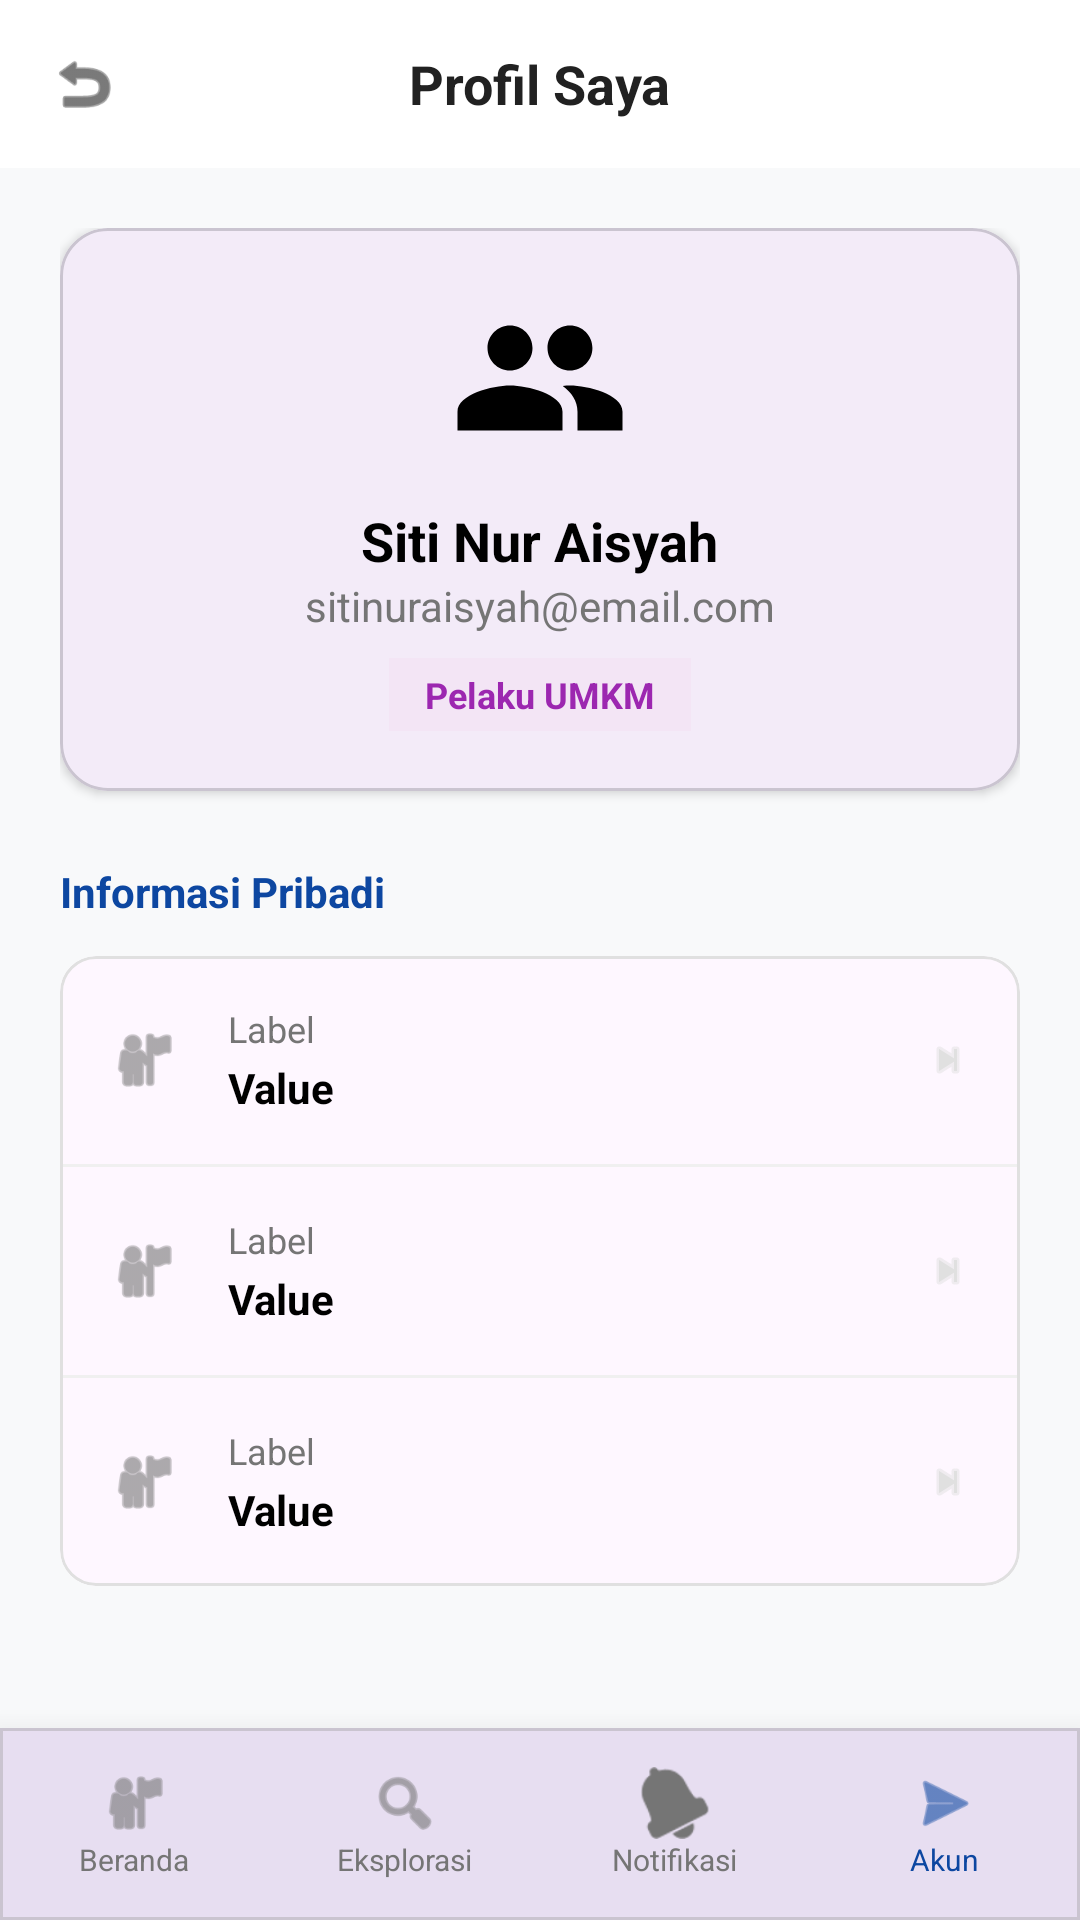

Locate icon controls on the screen. Image size 1080x1920, boxes as (x1, y1, x2, y2).
myplaces: (118, 1033, 172, 1087), (118, 1244, 172, 1298), (118, 1455, 172, 1509)
pengguna: (457, 325, 623, 431)
revert: (59, 61, 111, 108)
